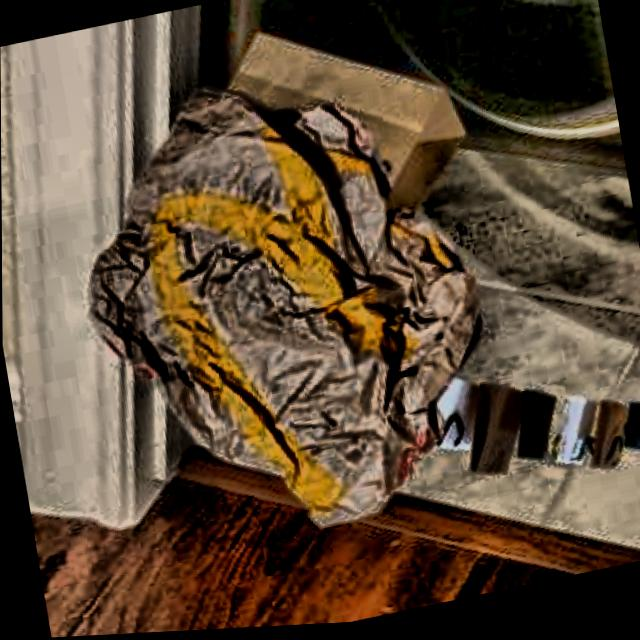Paper-bag: (43, 40, 526, 580), (113, 0, 493, 368)
